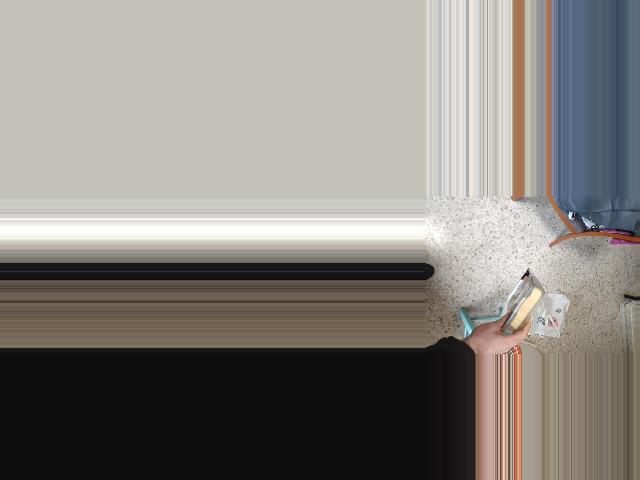cheese: (494, 268, 546, 350)
